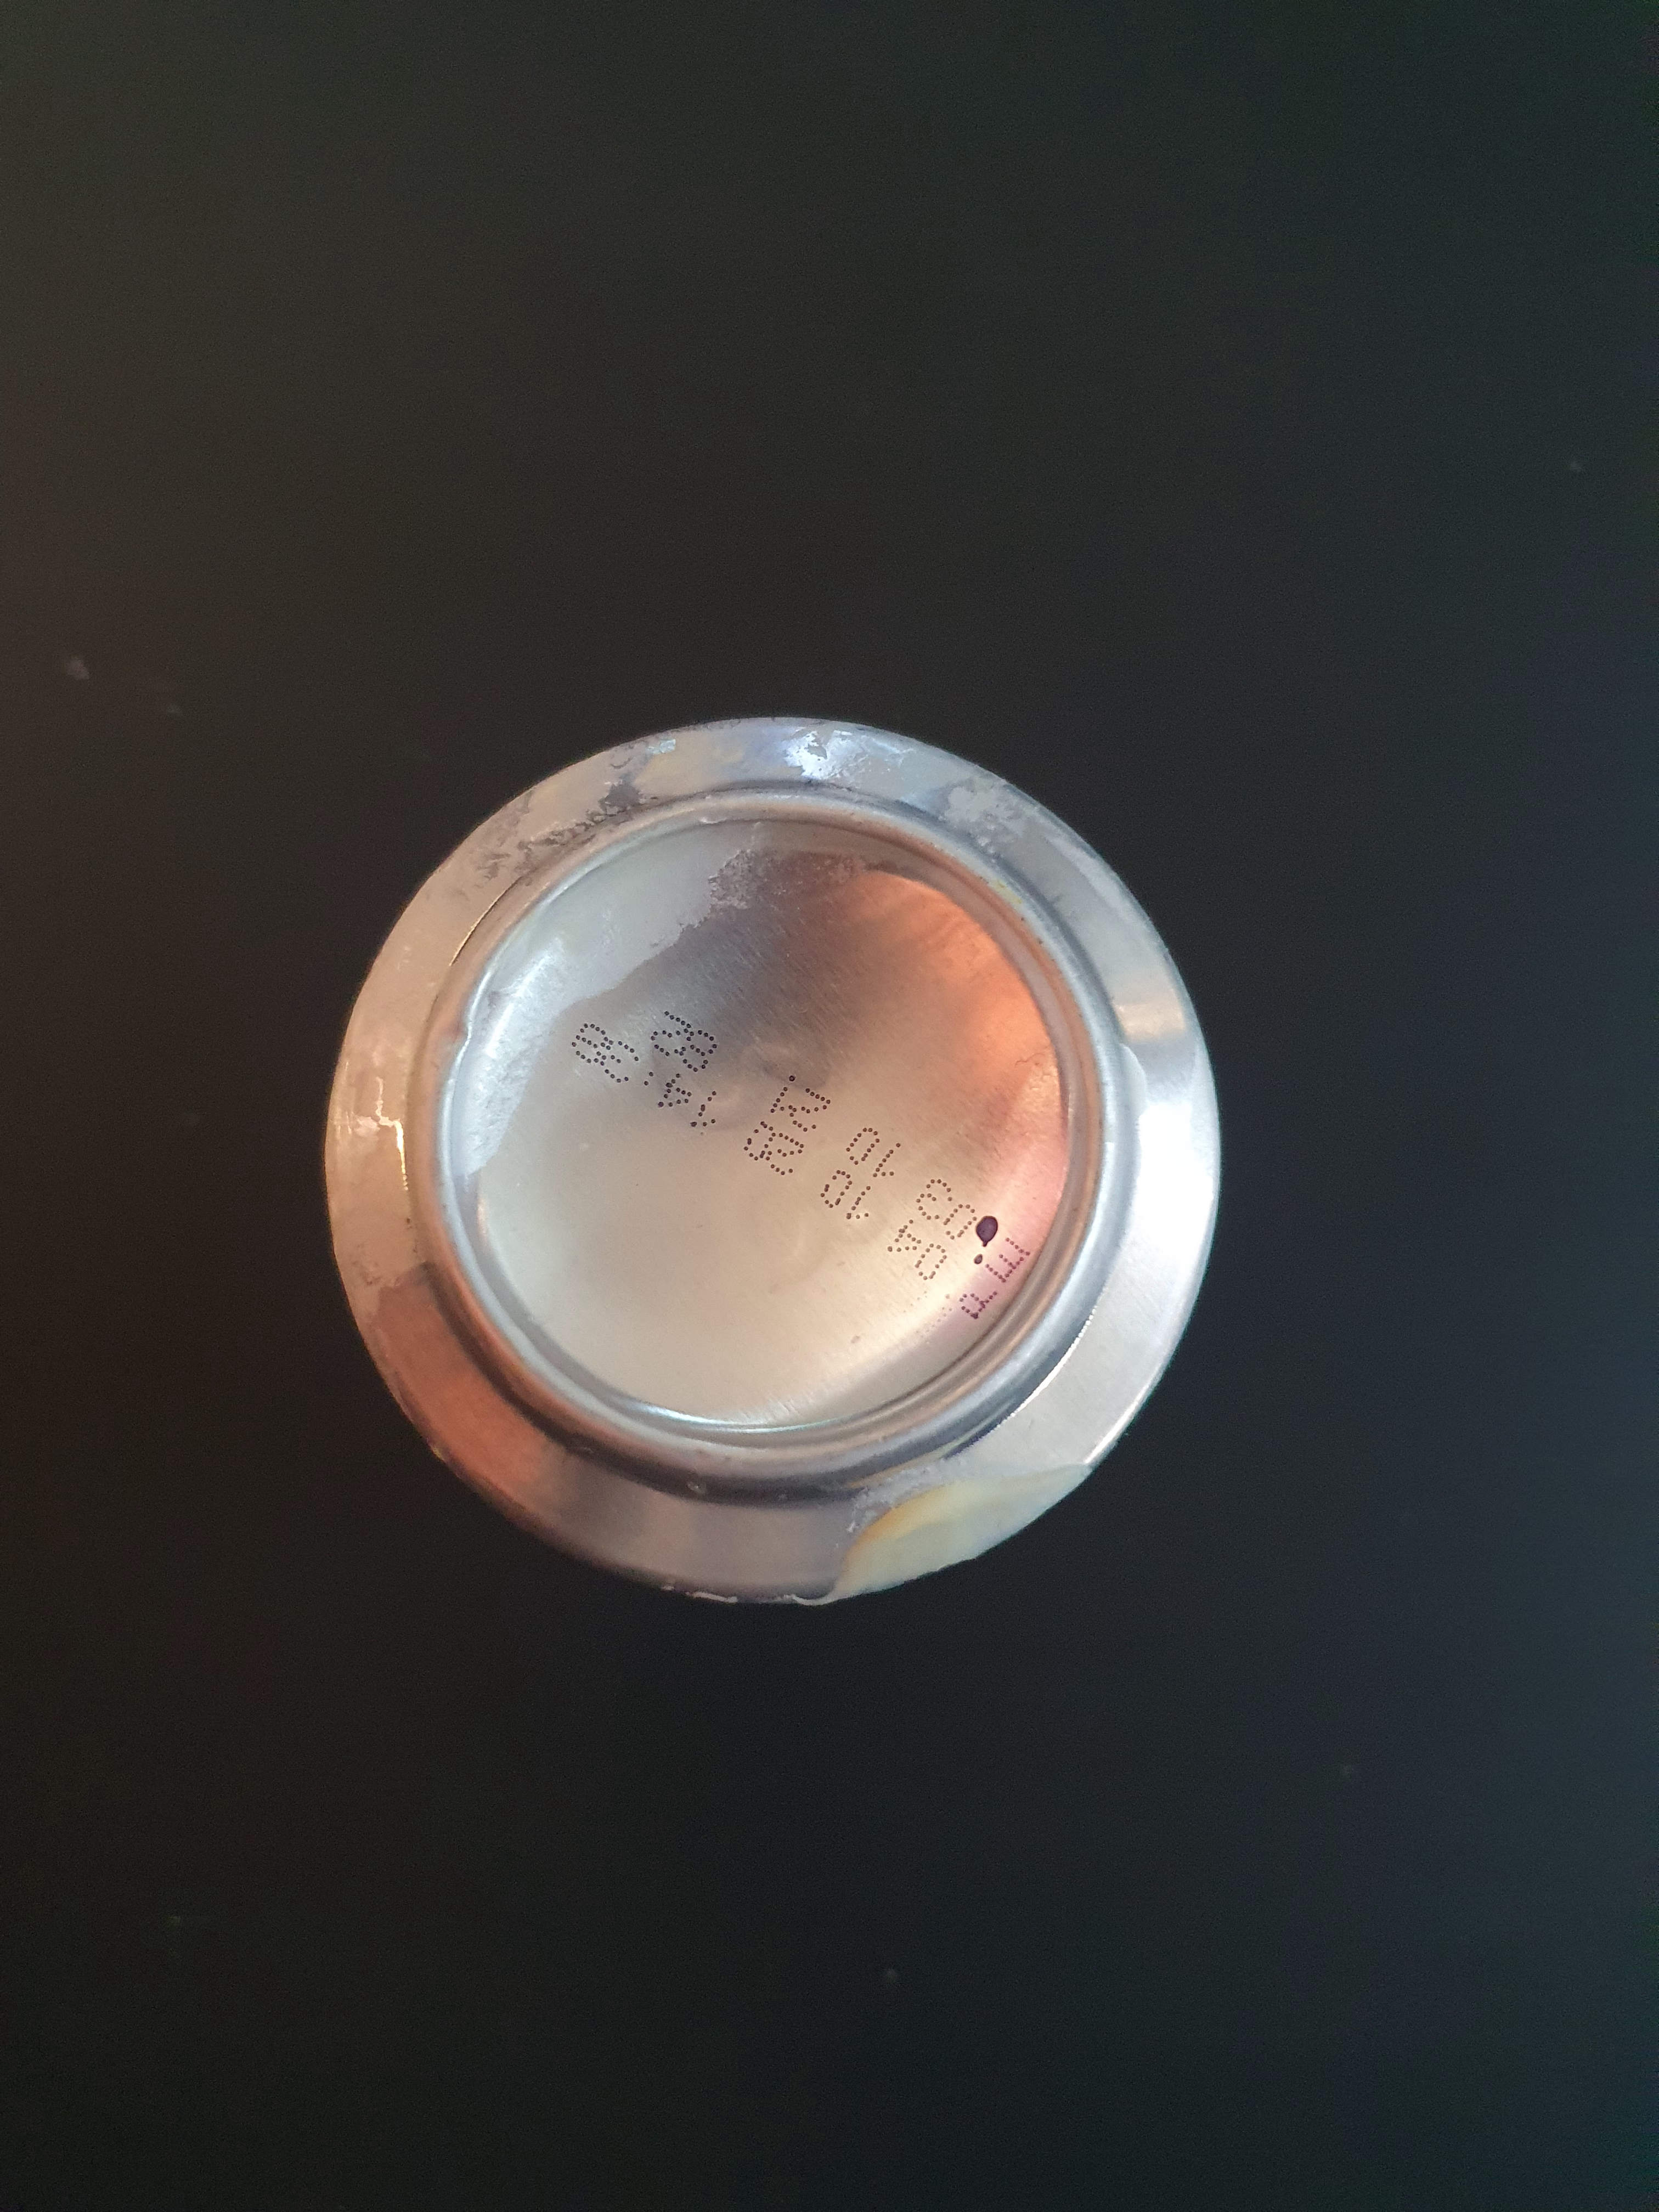metal: (295, 650, 1277, 1644)
